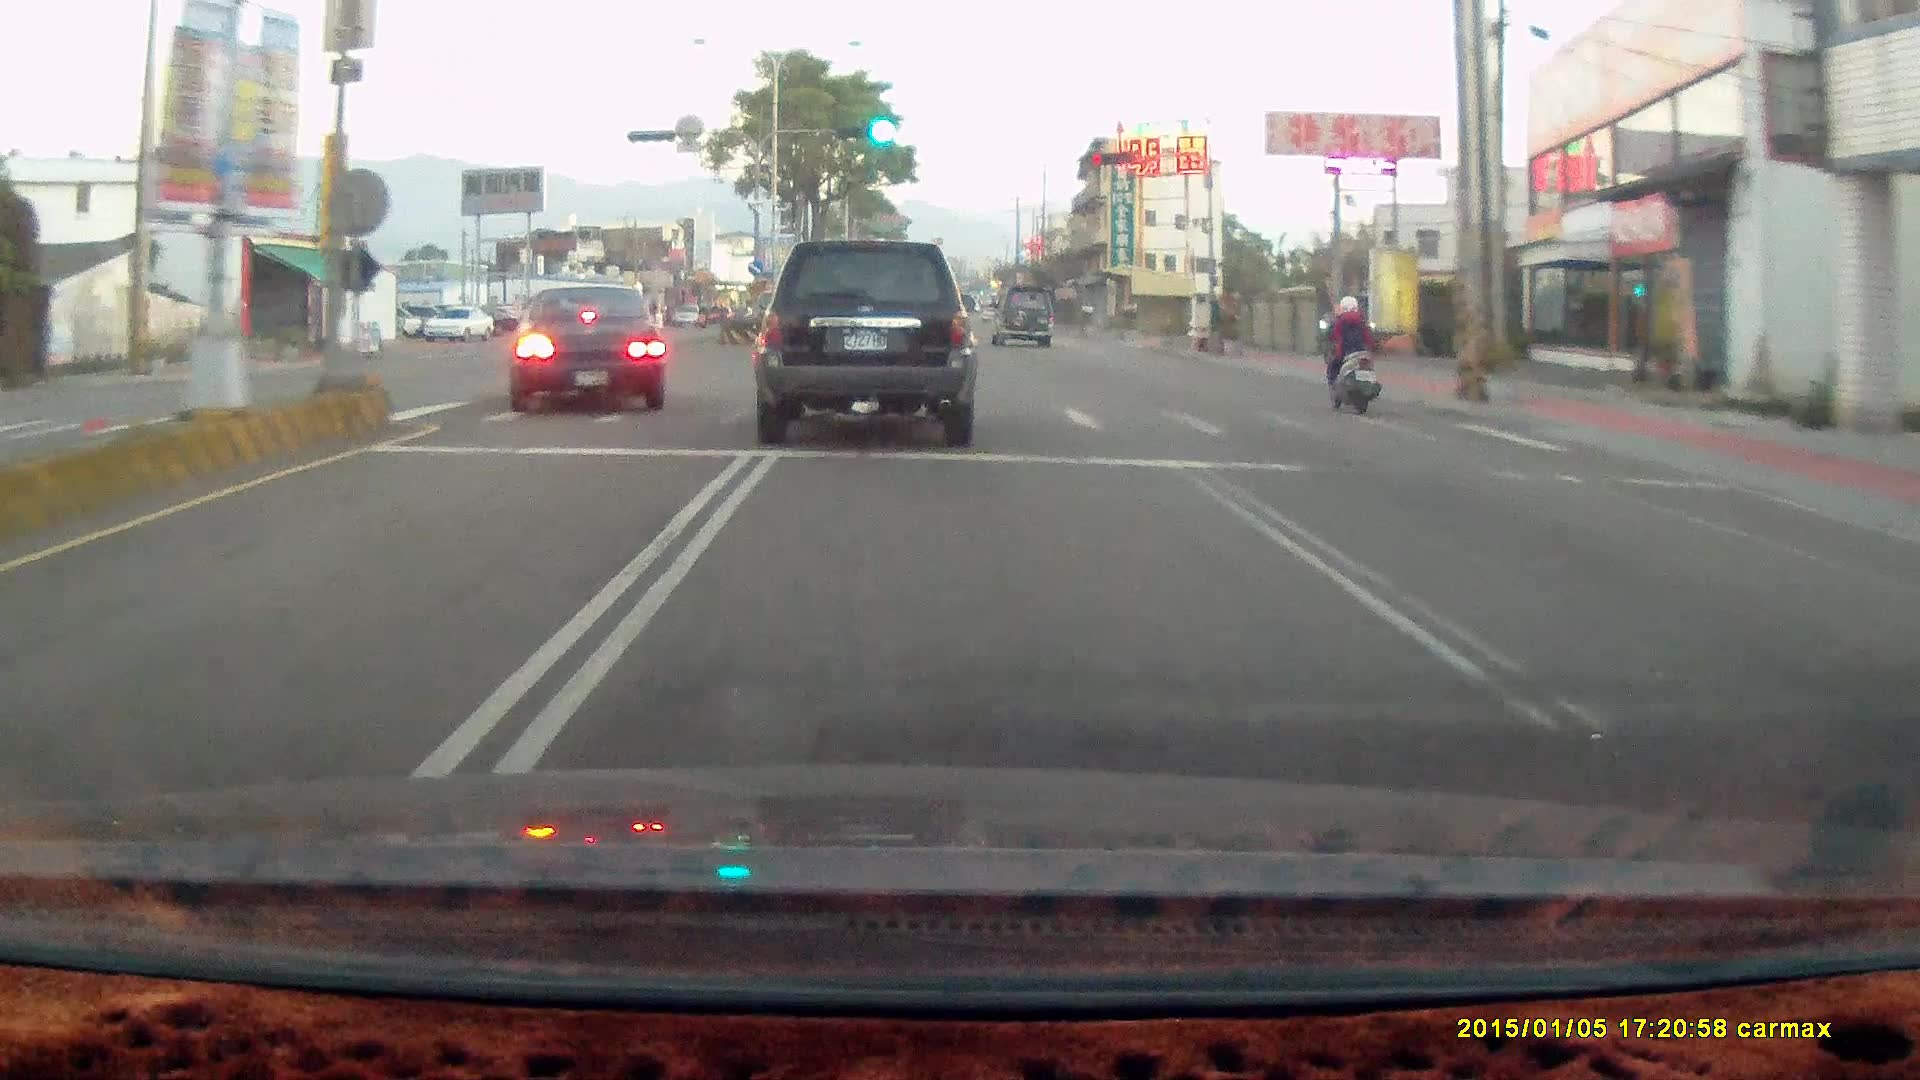rider: (1306, 284, 1393, 426), (1315, 294, 1380, 416)
vehicle: (756, 239, 981, 449), (752, 238, 976, 447), (503, 285, 669, 418), (501, 287, 666, 415), (990, 286, 1056, 352), (987, 281, 1052, 344), (422, 306, 494, 343)
